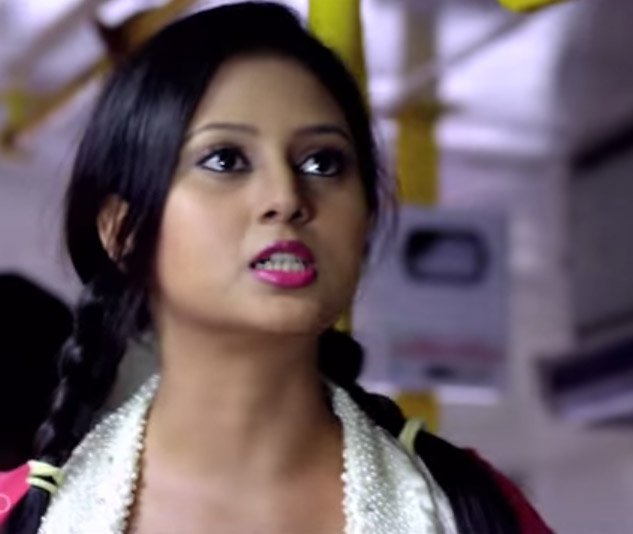noMask: (65, 11, 399, 341)
